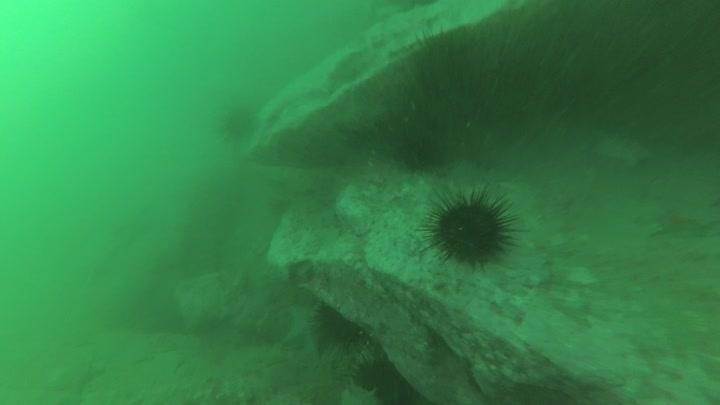echinus: (421, 186, 521, 270), (390, 107, 451, 174), (350, 353, 409, 403), (313, 300, 368, 347), (216, 101, 260, 144)
starfish: (278, 299, 333, 358)
